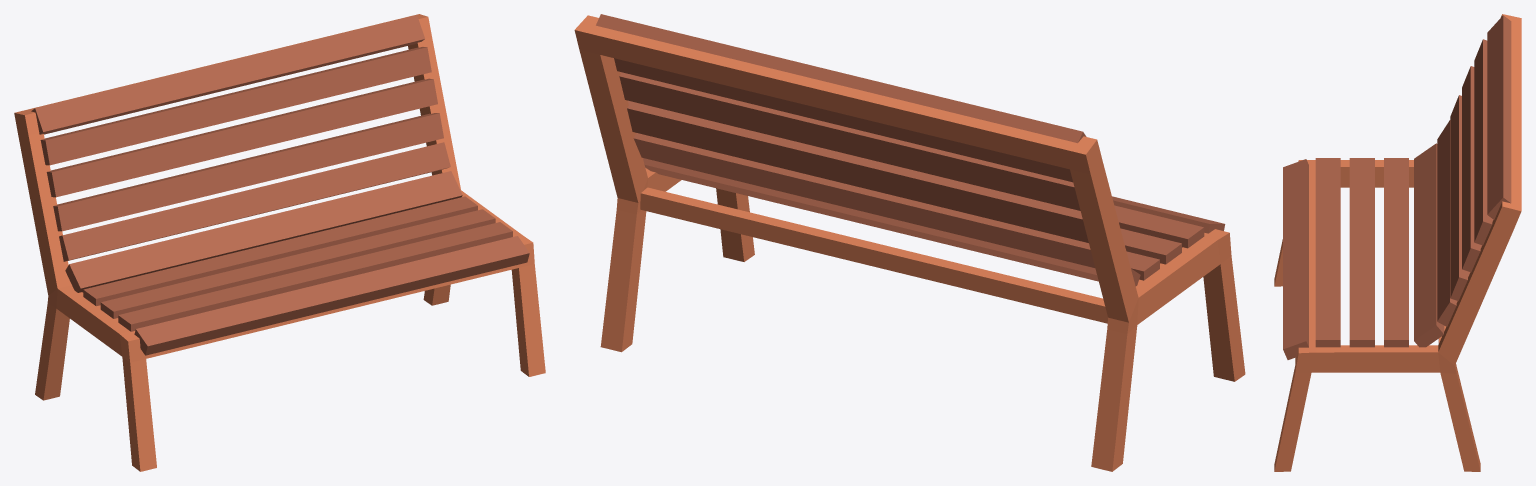
The model's file is Bench_01.fbx.
3 views of the same model, side by side, from view 1: azimuth 30°, elevation 25°; view 2: azimuth 150°, elevation 25°; view 3: azimuth 270°, elevation 25° (orthographic). The views are drawn at different scales.
Visible parts, largest first — view 1: Bench_01; view 2: Bench_01; view 3: Bench_01.
Part boxes in pixels (x1,y1,x2,y2): Bench_01: (14,14,545,471); Bench_01: (574,14,1245,471); Bench_01: (1274,14,1521,471).
Bounding box in the file's own units: 1.72 × 1.11 × 0.9275.
